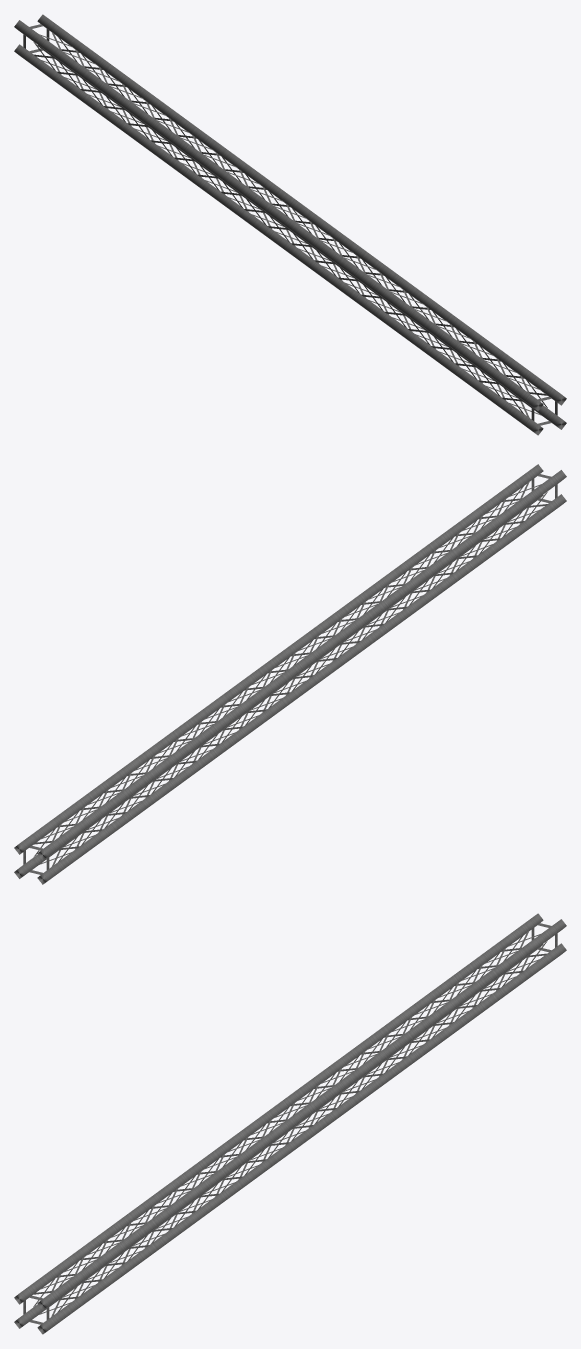
The model's file is studio-light-armature.glb.
The picture shows the model from 3 angles, top to bottom: view 1: azimuth 30°, elevation 25°; view 2: azimuth 150°, elevation 25°; view 3: azimuth 330°, elevation 25°; orthographic projection.
Parts seen in each view (by area): view 1: StudioLight_Armature; view 2: StudioLight_Armature; view 3: StudioLight_Armature.
Part boxes in pixels (x1,y1,x2,y2): StudioLight_Armature: (14, 14, 566, 435); StudioLight_Armature: (14, 464, 566, 884); StudioLight_Armature: (14, 913, 566, 1334).
Bounding box in the file's own units: 0.4996 × 0.5045 × 13.12.
1 material, 1 textured.
